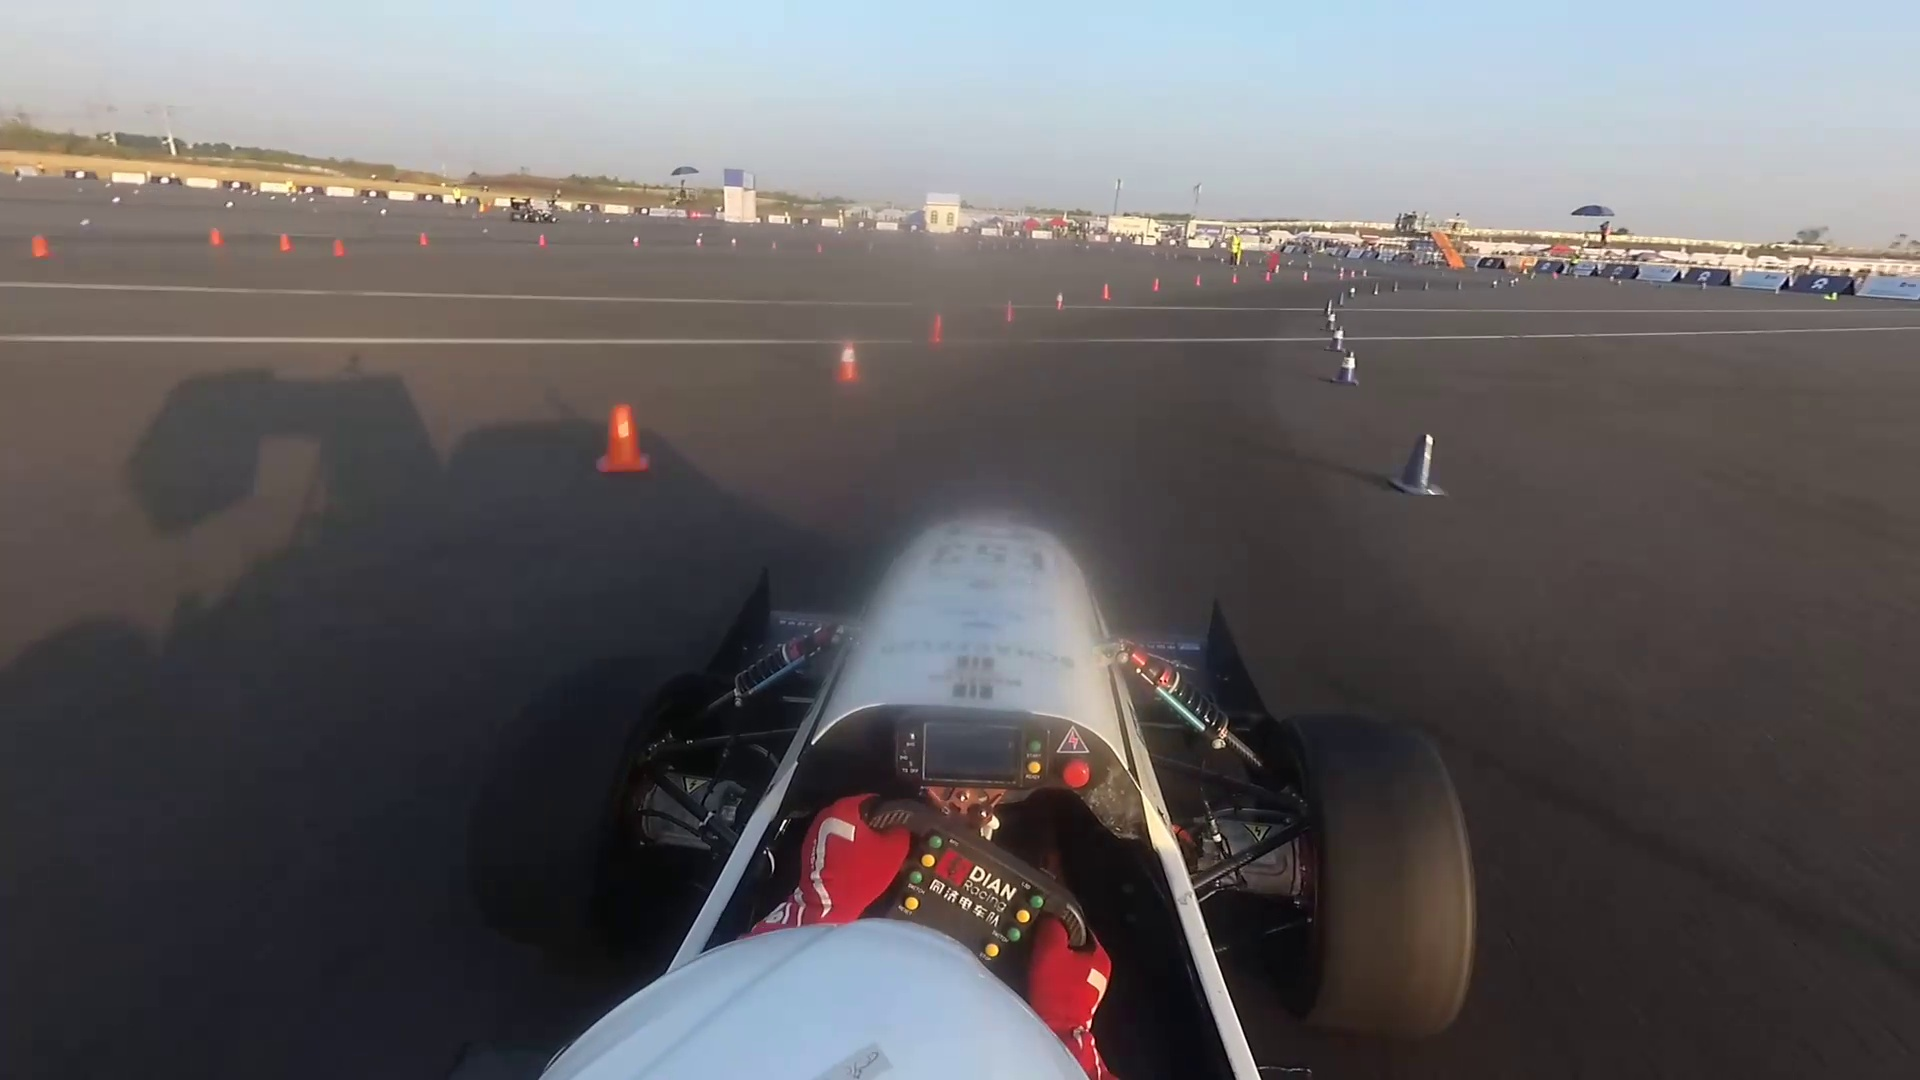blue_cone: (1399, 433, 1443, 498), (1333, 352, 1358, 384), (1327, 328, 1345, 351), (1323, 316, 1336, 331), (1324, 301, 1333, 316), (1337, 293, 1345, 307), (1455, 280, 1464, 291), (1371, 284, 1379, 295), (1422, 280, 1429, 290), (1349, 289, 1357, 299), (1393, 281, 1399, 291), (1515, 277, 1520, 287), (1493, 281, 1498, 290), (1510, 280, 1515, 287)
red_cone: (600, 404, 651, 481), (831, 343, 862, 386), (928, 313, 945, 349), (32, 237, 53, 262), (1000, 299, 1018, 324), (276, 231, 291, 257), (1051, 291, 1068, 315), (1097, 280, 1112, 305), (1147, 276, 1164, 295), (208, 224, 223, 247), (418, 231, 433, 249), (332, 241, 345, 257), (535, 233, 546, 248), (1193, 276, 1203, 289), (632, 236, 640, 248), (1265, 272, 1273, 284), (1233, 272, 1240, 284), (1338, 270, 1342, 280), (1364, 268, 1367, 277), (1303, 272, 1307, 280), (1352, 270, 1354, 278)
